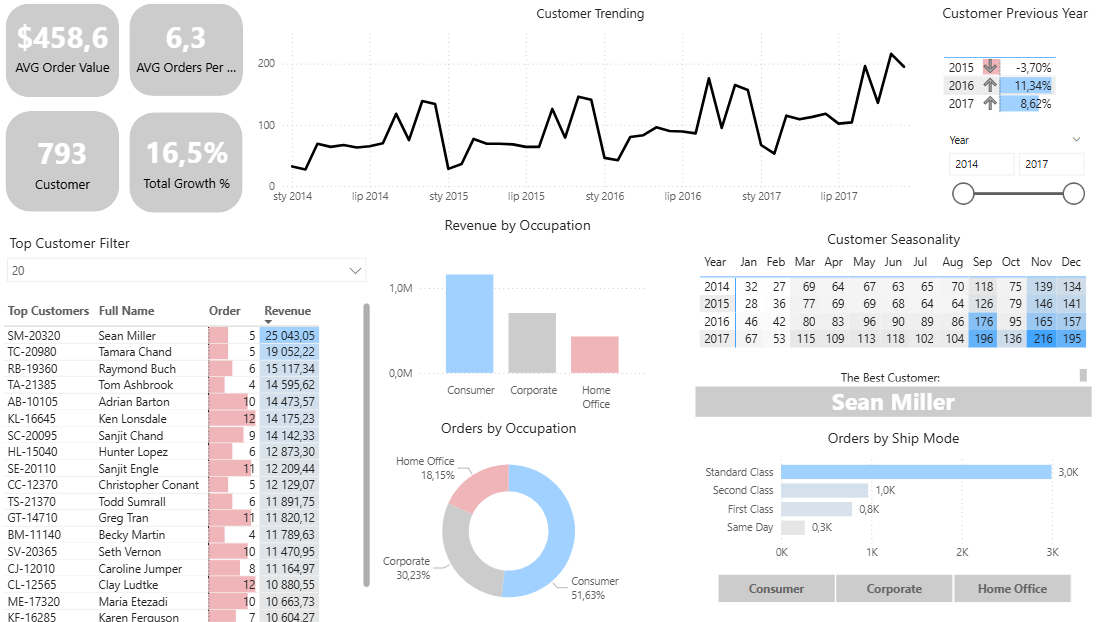

Layout of this report page (visuals, bound fields, positions):
{"tool":"powerbi","page":{"name":"Customer","canvas":[1280,720],"ordinal":2},"visuals":[{"type":"shape","box":[8.6,132.1,130,115],"z":0},{"type":"shape","box":[8.5,0,130,115],"z":1000},{"type":"tableEx","fields":{"Values":["Sample - Superstore.Customer ID","Sample - Superstore.Customer Name","Measures Table.Order Count","Measures Table.Total Revenue"]},"box":[0,345.8,430.9,374.6],"z":2000},{"type":"slicer","fields":{"Values":["TopN Selector.Column1"]},"box":[0,266.2,430.9,68.6],"z":3000},{"type":"donutChart","title":"Orders by Occupation","fields":{"Category":["Sample - Superstore.Segment"],"Y":["Measures Table.Order Count"]},"box":[430.9,481.6,304.6,238.8],"z":4000},{"type":"lineChart","title":"Customer Trending","fields":{"Y":["Measures Table.Customer Count"],"Category":["Calendar.Year Hierarchy.Year","Calendar.Year Hierarchy.StartOfMonth","Calendar.Year Hierarchy.StartOfWeek"]},"box":[290.9,8.2,771.2,238.8],"z":5000},{"type":"columnChart","title":"Revenue by Occupation","fields":{"Y":["Measures Table.Total Revenue"],"Category":["Sample - Superstore.Segment"]},"box":[441.9,249.7,304.6,231.9],"z":6000},{"type":"card","fields":{"Values":["Measures Table.Customer Count"]},"box":[11,150.4,124.7,79.5],"z":7000},{"type":"card","fields":{"Values":["Measures Table.AVG Order Value"]},"box":[11,17.1,124.7,79.5],"z":8000},{"type":"tableEx","title":"Customer Previous Year","fields":{"Values":["Calendar.Year","Measures Table.Customer Growth %"]},"box":[1074.4,6.9,205.8,142.7],"z":9000},{"type":"slicer","title":"Year","fields":{"Values":["Calendar.Year"]},"box":[1074.4,150.9,175.6,98.8],"z":10000},{"type":"pivotTable","title":"Customer Seasonality","fields":{"Rows":["Calendar.Year"],"Columns":["Calendar.Month"],"Values":["Measures Table.Total Customer"]},"box":[797.3,266.2,452.8,141.3],"z":11000},{"type":"shape","box":[150.4,0,129.6,114.9],"z":12000},{"type":"shape","box":[150.4,133.3,129.6,114.9],"z":13000},{"type":"card","fields":{"Values":["Measures Table.AVG Orders Per Customers"]},"box":[152.9,17.1,124.7,79.5],"z":14000},{"type":"card","fields":{"Values":["Measures Table.Total Growth %"]},"box":[156.5,149.2,117.4,80.7],"z":15000},{"type":"card","fields":{"Values":["Sample - Superstore.Customer Name"]},"box":[797.3,446.3,452.4,35.5],"z":16000},{"type":"textbox","box":[797.3,421.9,452.4,24.5],"z":17000},{"type":"clusteredBarChart","title":"Orders by Ship Mode","fields":{"Y":["Measures Table.Total Orders"],"Category":["Sample - Superstore.Ship Mode"]},"box":[797.3,492.8,452.4,161.4],"z":18000},{"type":"slicer","fields":{"Values":["Sample - Superstore.Segment"]},"box":[797.3,654.2,452.4,45.2],"z":19000}]}

Visuals, with their boxes in screenshot pixels (x1, y1, x2, y2), scaled from the page's 1280x720 canvas onto the 1117x622 screenshot:
shape: [8,114,121,213]
shape: [7,0,121,99]
tableEx - Sample - Superstore.Customer ID x Sample - Superstore.Customer Name: [0,299,376,621]
slicer - TopN Selector.Column1: [0,230,376,289]
"Orders by Occupation" donutChart: [376,416,642,621]
"Customer Trending" lineChart: [254,7,927,213]
"Revenue by Occupation" columnChart: [386,216,651,416]
card - Measures Table.Customer Count: [10,130,118,199]
card - Measures Table.AVG Order Value: [10,15,118,83]
"Customer Previous Year" tableEx: [938,6,1116,129]
"Year" slicer: [938,130,1091,216]
"Customer Seasonality" pivotTable: [696,230,1091,352]
shape: [131,0,244,99]
shape: [131,115,244,214]
card - Measures Table.AVG Orders Per Customers: [133,15,242,83]
card - Measures Table.Total Growth %: [137,129,239,199]
card - Sample - Superstore.Customer Name: [696,386,1091,416]
textbox: [696,364,1091,386]
"Orders by Ship Mode" clusteredBarChart: [696,426,1091,565]
slicer - Sample - Superstore.Segment: [696,565,1091,604]
